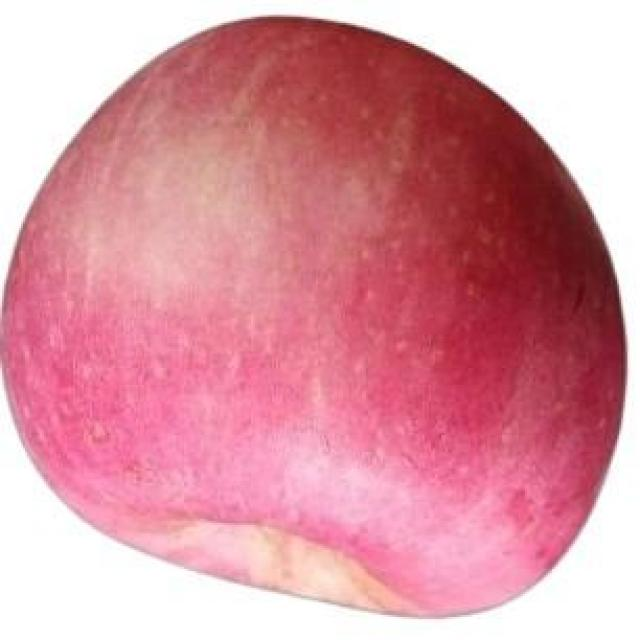Rotten Apple: (1, 17, 624, 615)
